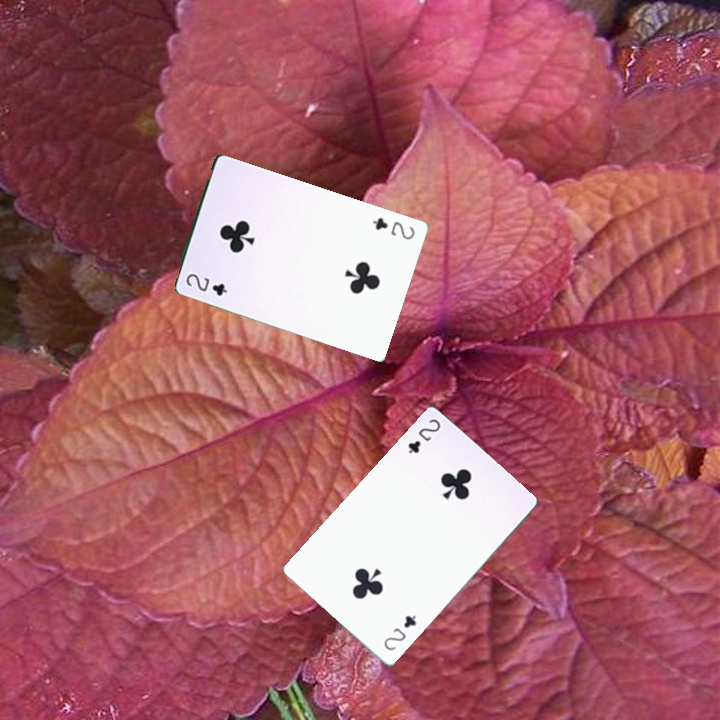2c: (404, 414, 443, 457), (380, 611, 419, 653), (368, 213, 417, 242), (182, 269, 230, 298)
